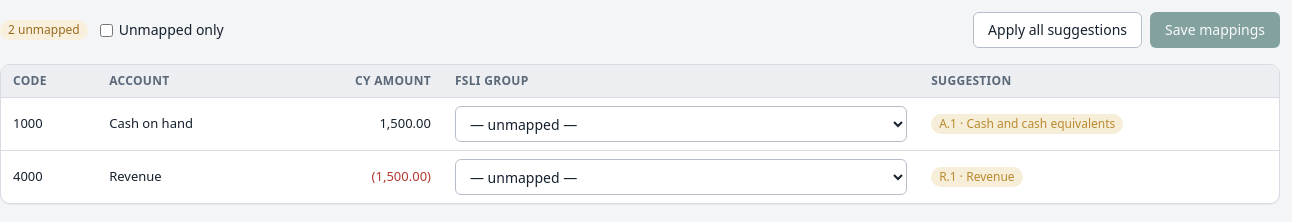
MappingPage › filters to unmapped rows only
The width and height of the screenshot is (1292, 222).
expect the dropdown named "FSLI group for 1000" is shown: met, box [455,106,907,142]
Click the button "Apply all suggestions" at (1058, 30), box [973,12,1142,48]
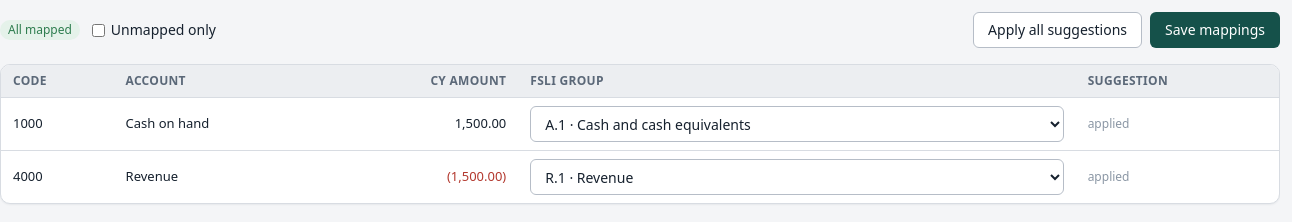
Click the checkbox labelled "Unmapped only" at (98, 30), box [92,24,105,36]
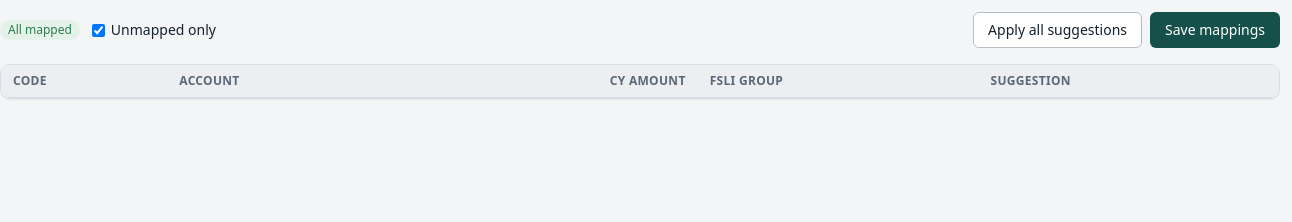
expect the text "Cash on hand" is gone: met
expect the text "Revenue" is gone: met
